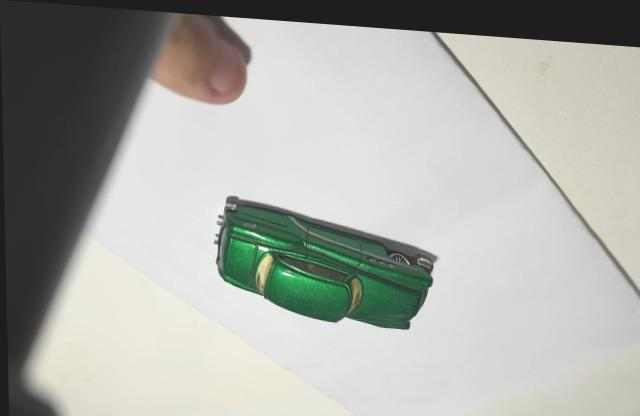06_MASERATI: (214, 191, 437, 323)
